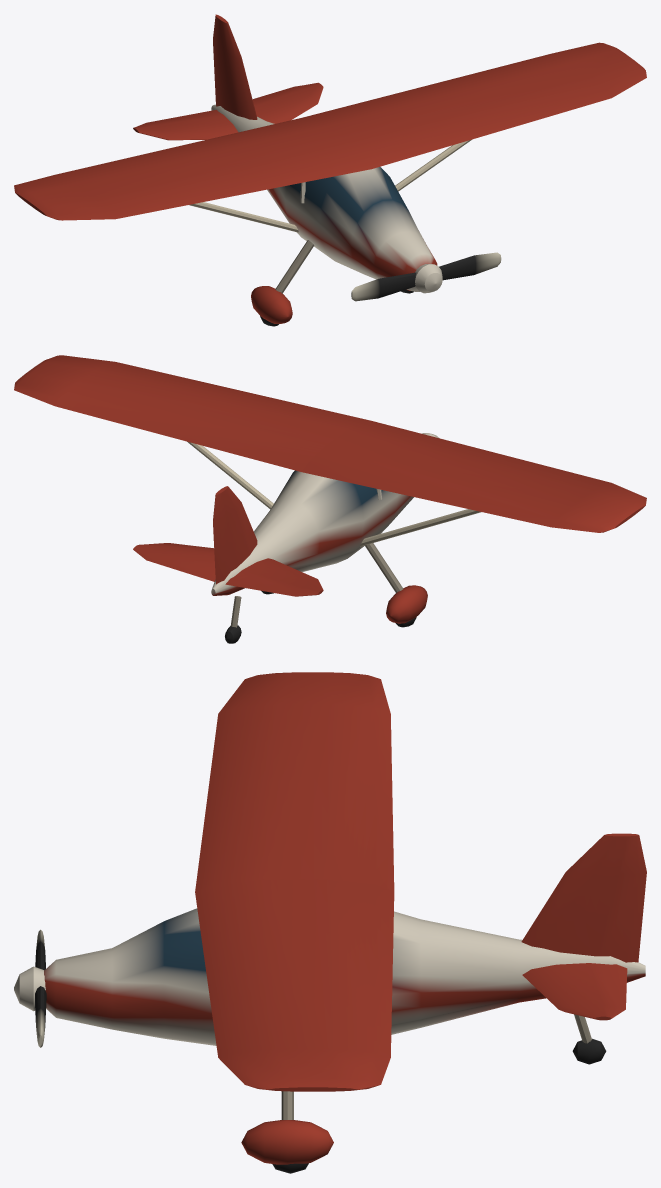
File: avioneta.glb
The picture shows the model from 3 angles, top to bottom: view 1: azimuth 30°, elevation 25°; view 2: azimuth 150°, elevation 25°; view 3: azimuth 270°, elevation 25°; orthographic projection. The views are drawn at different scales.
Parts seen in each view (by area): view 1: Avioneta • fuselaje y ala alta, Avioneta • hélice; view 2: Avioneta • fuselaje y ala alta; view 3: Avioneta • fuselaje y ala alta, Avioneta • hélice.
Boxes of the visible parts, left/top/right/bottom form: Avioneta • fuselaje y ala alta: left=14, top=14, right=646, bottom=326; Avioneta • hélice: left=351, top=252, right=501, bottom=301; Avioneta • fuselaje y ala alta: left=14, top=355, right=646, bottom=643; Avioneta • fuselaje y ala alta: left=44, top=672, right=646, bottom=1173; Avioneta • hélice: left=14, top=929, right=46, bottom=1047.
Bounding box in the file's own units: 7 × 2.28 × 4.51.
